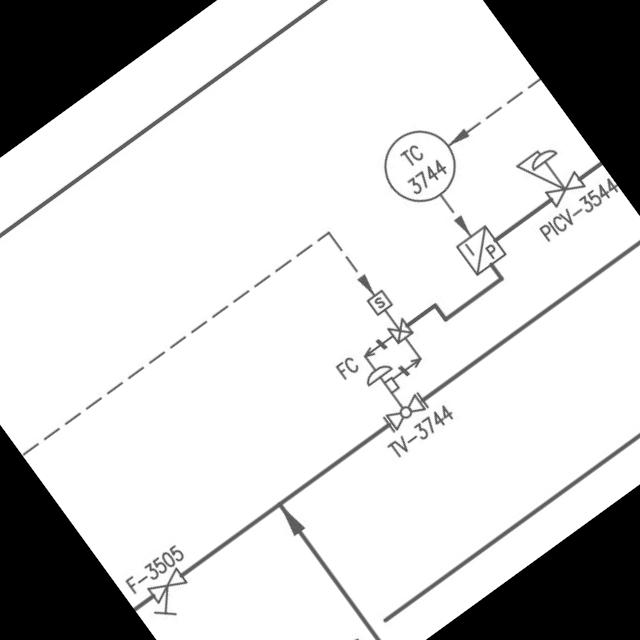CBV: (313, 279, 461, 439)
EPA: (446, 216, 513, 283)
PCV: (508, 131, 590, 215)
S: (136, 561, 204, 626)
